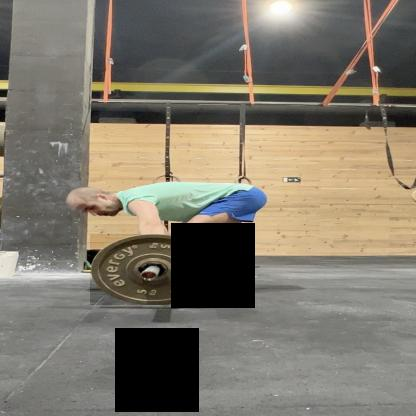barbell: (91, 235, 218, 306)
